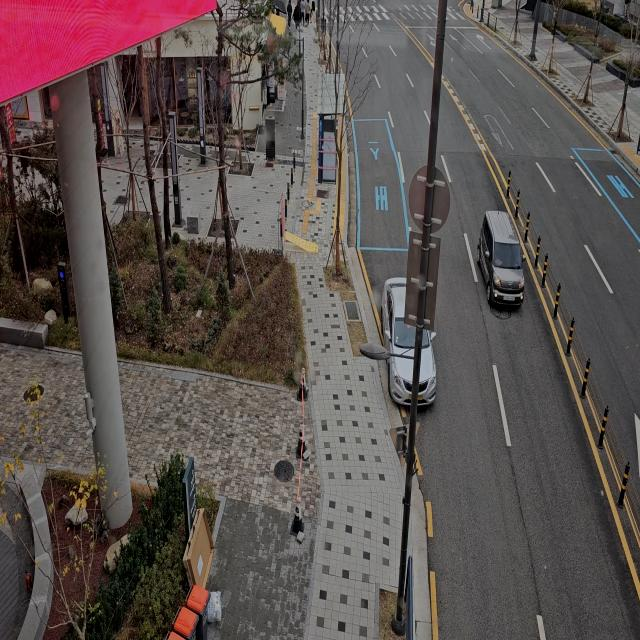Car: (376, 264, 443, 427), (470, 194, 537, 321)
